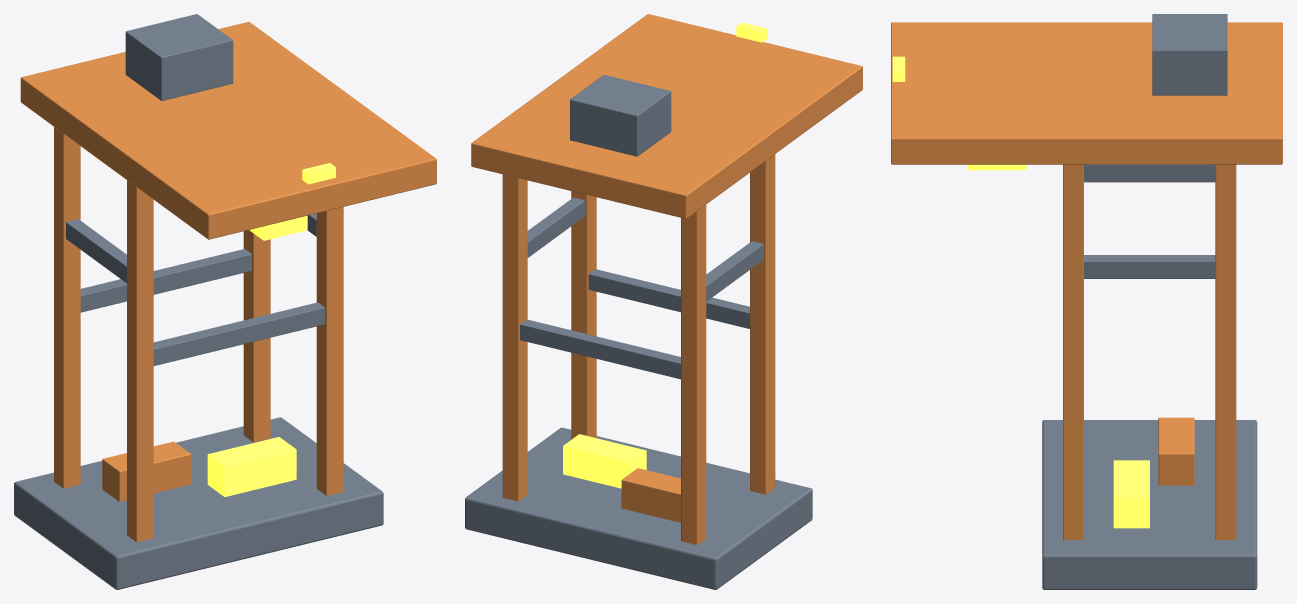
The model's file is crane_kogyo.glb.
3 renders of one model, left to right at view 1: azimuth 30°, elevation 25°; view 2: azimuth 150°, elevation 25°; view 3: azimuth 270°, elevation 25°, orthographic. The views are drawn at different scales.
Parts seen in each view (by area): view 1: GantryBoom, TerminalPierDeck, PortalLeg_-1_-1, PortalLeg_-1_1, PortalLeg_1_-1, MachineryHouse, PortalLeg_1_1, CrossBraceFront, ContainerStackB, CrossBraceBack, ContainerStackA, CrossBraceLeft (+1 smaller); view 2: GantryBoom, TerminalPierDeck, PortalLeg_-1_1, PortalLeg_-1_-1, PortalLeg_1_1, MachineryHouse, PortalLeg_1_-1, CrossBraceBack, ContainerStackB, CrossBraceFront, ContainerStackA, CrossBraceRight (+1 smaller); view 3: GantryBoom, TerminalPierDeck, PortalLeg_1_1, PortalLeg_1_-1, MachineryHouse, CrossBraceRight, ContainerStackA, ContainerStackB, CrossBraceLeft.
Part boxes in pixels (box(x1,y1,x2,y2)): GantryBoom: box(20, 21, 436, 239); TerminalPierDeck: box(14, 417, 383, 589); PortalLeg_-1_-1: box(127, 180, 153, 542); PortalLeg_-1_1: box(54, 127, 80, 488); PortalLeg_1_-1: box(316, 207, 343, 495); MachineryHouse: box(125, 14, 233, 100); PortalLeg_1_1: box(243, 230, 270, 442); CrossBraceFront: box(153, 302, 325, 365); ContainerStackB: box(207, 437, 296, 496); CrossBraceBack: box(80, 249, 251, 312); ContainerStackA: box(102, 441, 191, 501); CrossBraceLeft: box(66, 219, 126, 283); GantryBoom: box(471, 14, 862, 218); TerminalPierDeck: box(465, 427, 812, 589); PortalLeg_-1_1: box(681, 205, 706, 544); PortalLeg_-1_-1: box(750, 154, 775, 494); PortalLeg_1_1: box(502, 174, 527, 501); MachineryHouse: box(570, 74, 671, 156); PortalLeg_1_-1: box(571, 191, 596, 439); CrossBraceBack: box(520, 319, 680, 379); ContainerStackB: box(563, 434, 646, 488); CrossBraceFront: box(588, 269, 749, 328); ContainerStackA: box(621, 468, 680, 522); CrossBraceRight: box(527, 197, 585, 257); GantryBoom: box(891, 22, 1282, 164); TerminalPierDeck: box(1042, 420, 1257, 589); PortalLeg_1_1: box(1215, 164, 1236, 539); PortalLeg_1_-1: box(1063, 164, 1083, 539); MachineryHouse: box(1152, 14, 1227, 95); CrossBraceRight: box(1084, 255, 1215, 278); ContainerStackA: box(1158, 417, 1194, 485); ContainerStackB: box(1113, 460, 1149, 528); CrossBraceLeft: box(1084, 164, 1215, 182).
Size of the model in its own units: 23.04 by 38.68 by 28.
